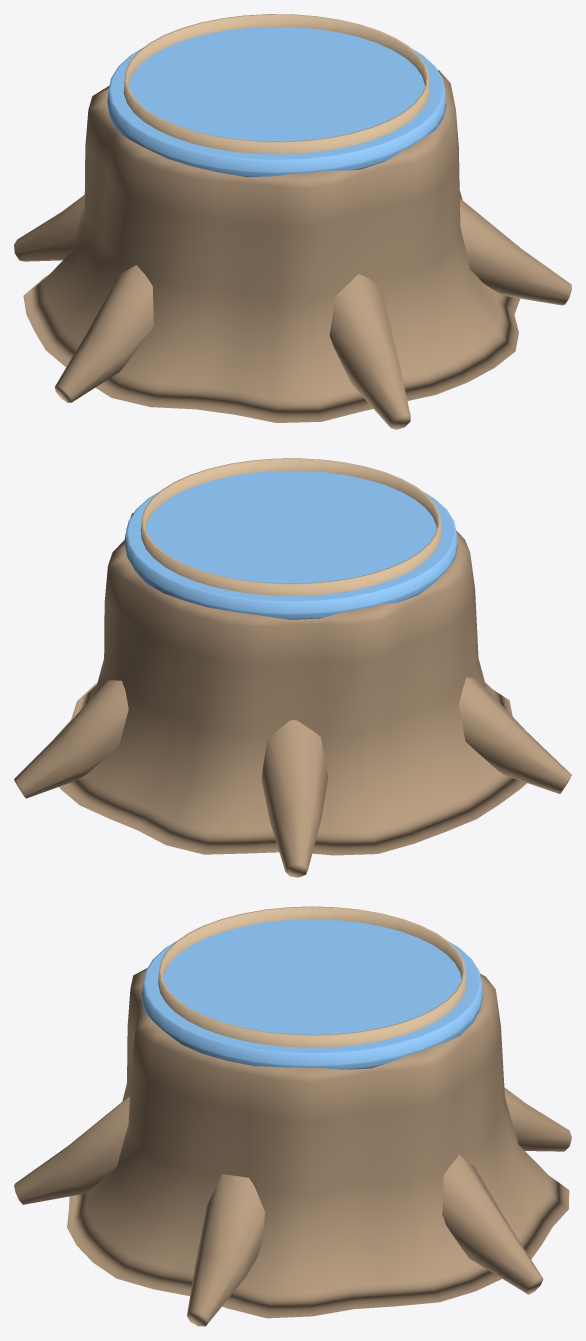
The model's file is LogJamStump.glb.
The picture shows the model from 3 angles, top to bottom: view 1: azimuth 30°, elevation 25°; view 2: azimuth 150°, elevation 25°; view 3: azimuth 270°, elevation 25°; orthographic projection. The views are drawn at different scales.
Parts seen in each view (by area): view 1: Bark, Top, Rings; view 2: Bark, Top, Rings; view 3: Bark, Top, Rings.
Boxes of the visible parts, bbox=[...] form: Bark: bbox=[14, 70, 571, 429]; Top: bbox=[107, 26, 446, 177]; Rings: bbox=[123, 14, 429, 154]; Bark: bbox=[14, 512, 571, 877]; Top: bbox=[125, 470, 457, 619]; Rings: bbox=[141, 458, 441, 595]; Bark: bbox=[14, 968, 571, 1326]; Top: bbox=[141, 919, 482, 1069]; Rings: bbox=[158, 906, 466, 1047].
Size of the model in its own units: 5.81 by 2.73 by 5.69.
